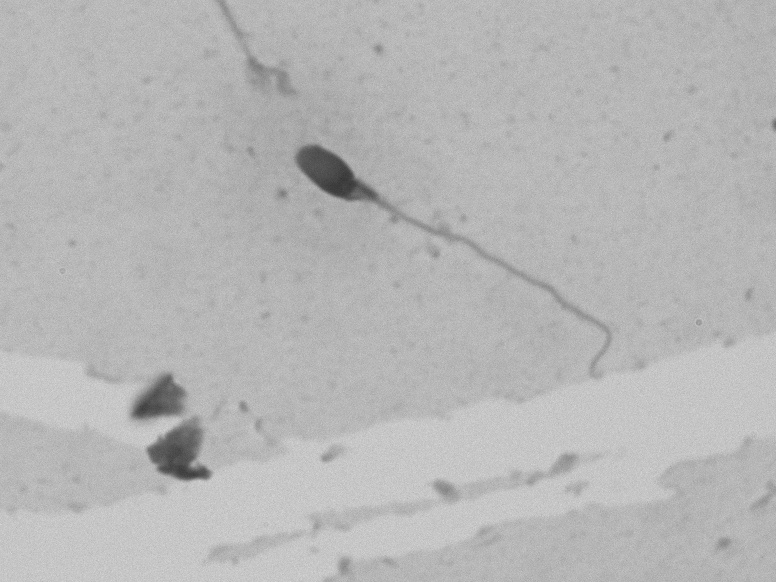Abnormal: (237, 125, 632, 396)
